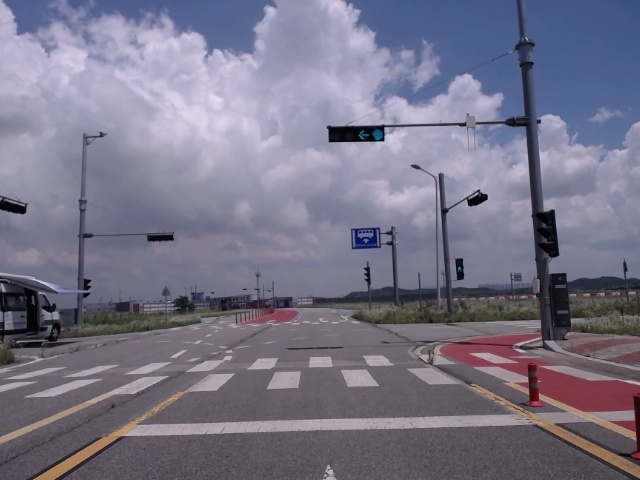all_green_4: (329, 128, 386, 139)
